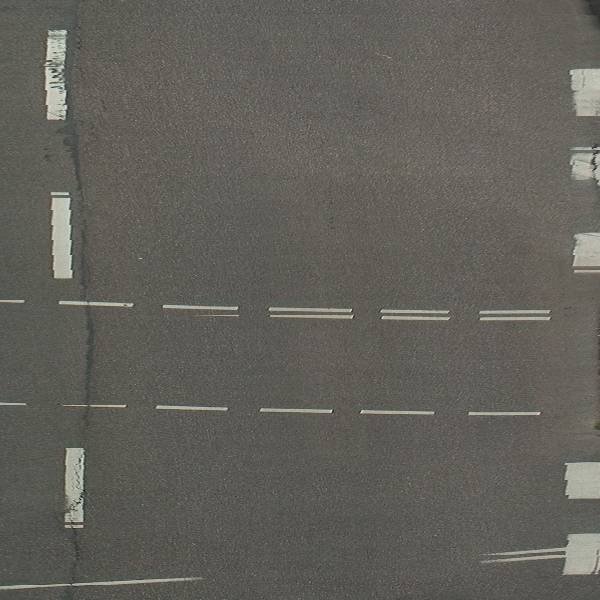road_damage: (65, 138, 102, 431), (65, 485, 89, 580)
